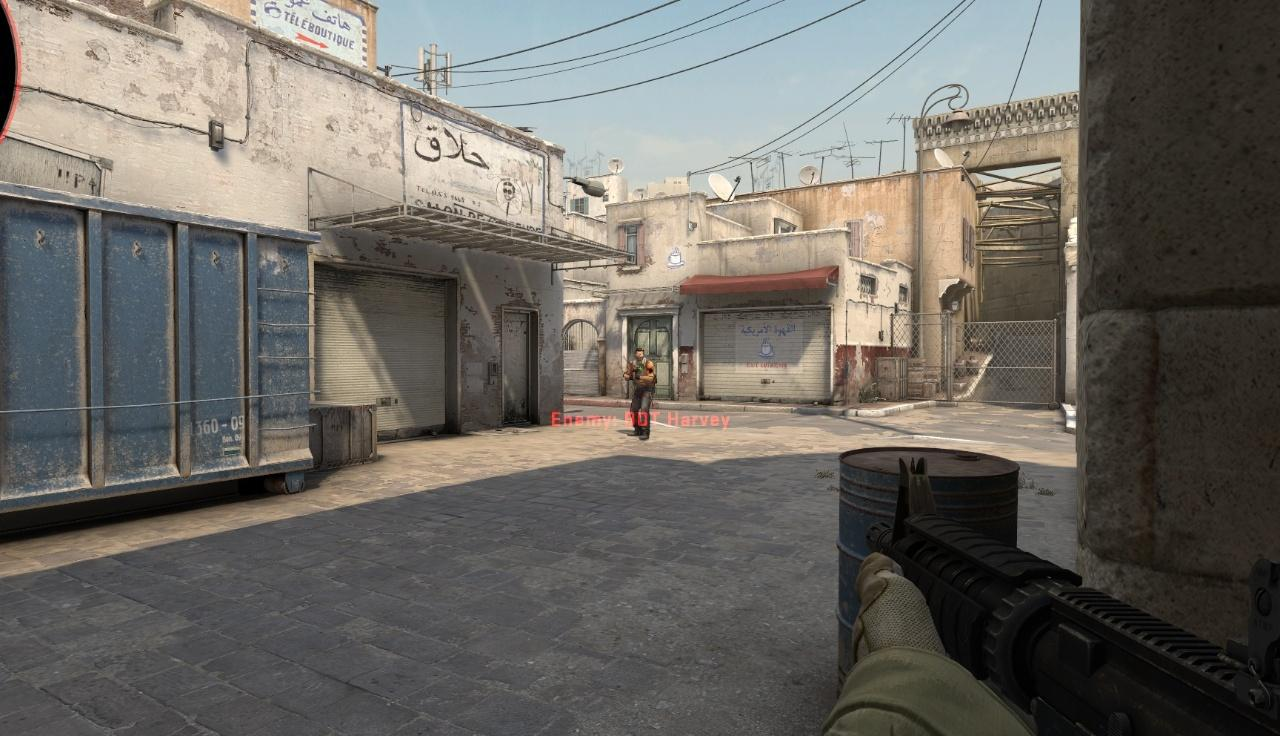rifle: (850, 459, 1280, 736)
tt: (624, 348, 656, 439)
tthead: (635, 348, 644, 361)
